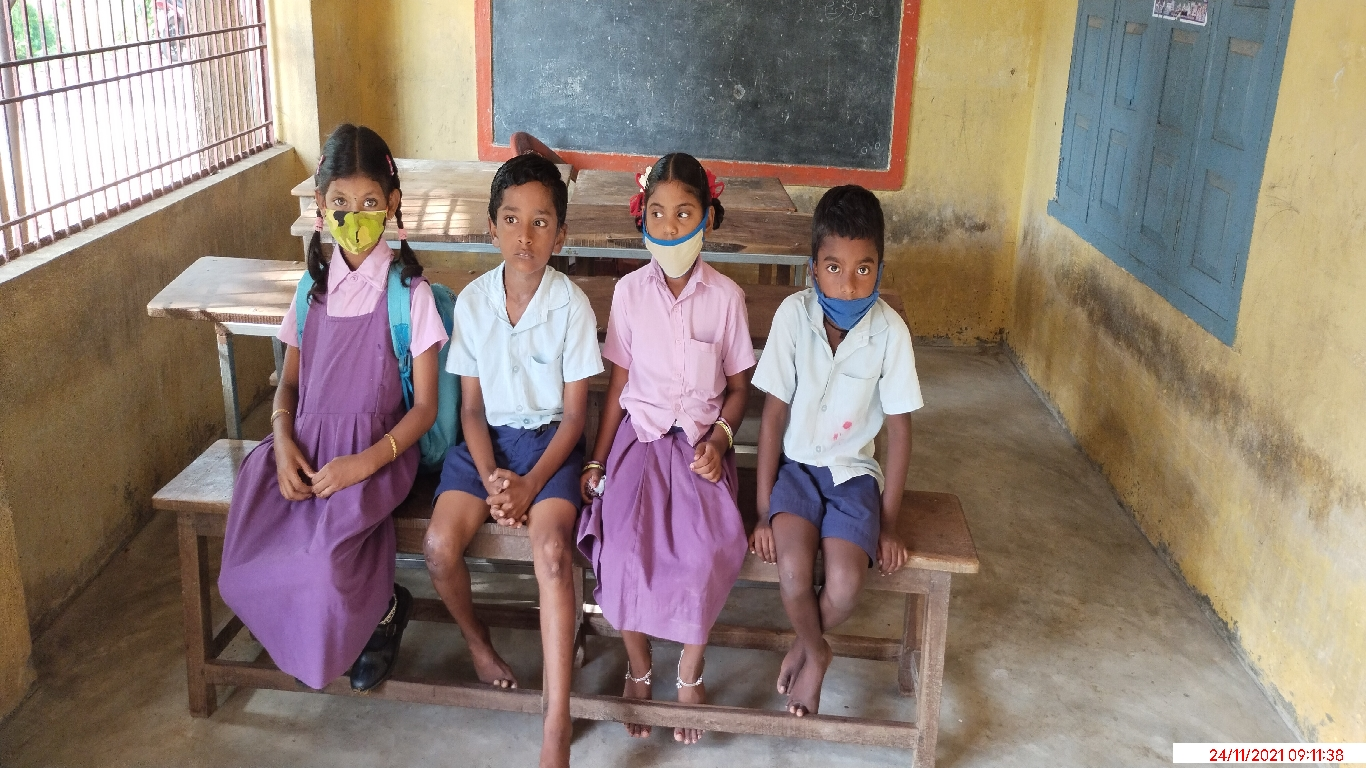student: (760, 179, 936, 583), (262, 120, 442, 456), (599, 145, 756, 522), (453, 141, 590, 498)
